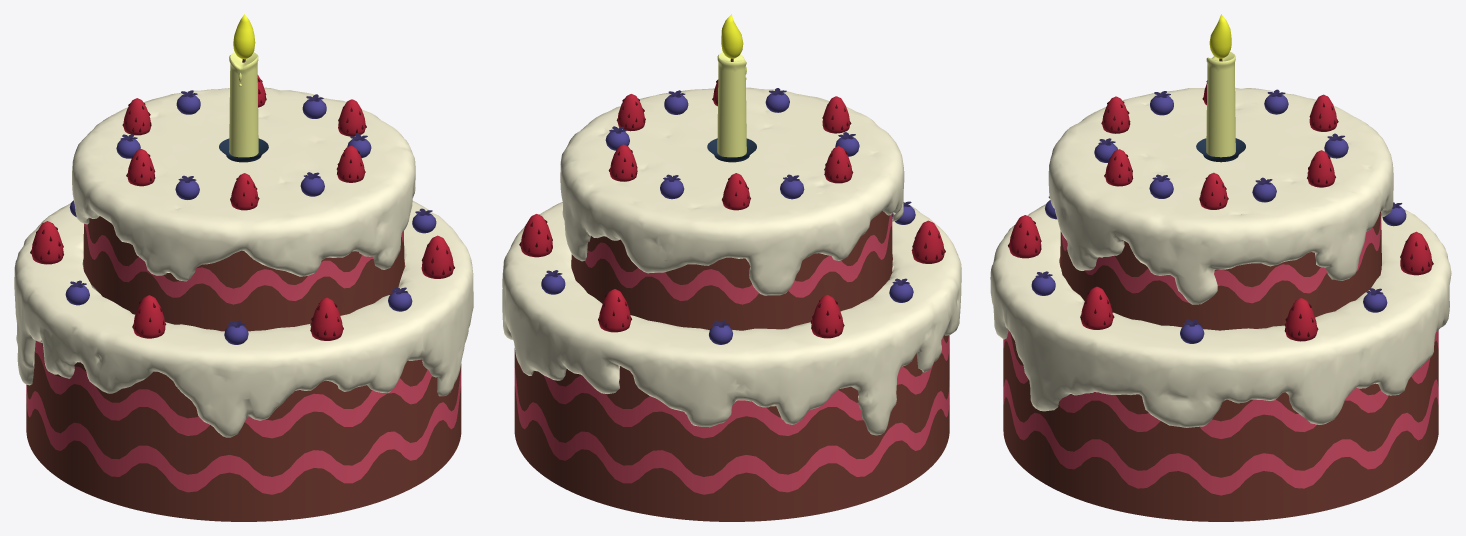
File: LV21_cake.fbx
The picture shows the model from 3 angles, left to right: view 1: azimuth 30°, elevation 25°; view 2: azimuth 150°, elevation 25°; view 3: azimuth 270°, elevation 25°; orthographic projection.
Parts seen in each view (by area): view 1: cake; view 2: cake; view 3: cake.
Boxes of the visible parts, box(x1,y1,x2,y2) form: cake: box(14, 14, 473, 521); cake: box(502, 14, 961, 521); cake: box(990, 14, 1451, 521).
Bounding box in the file's own units: 0.3079 × 0.3065 × 0.3077.
Materials: 1 (1 with a texture image).
